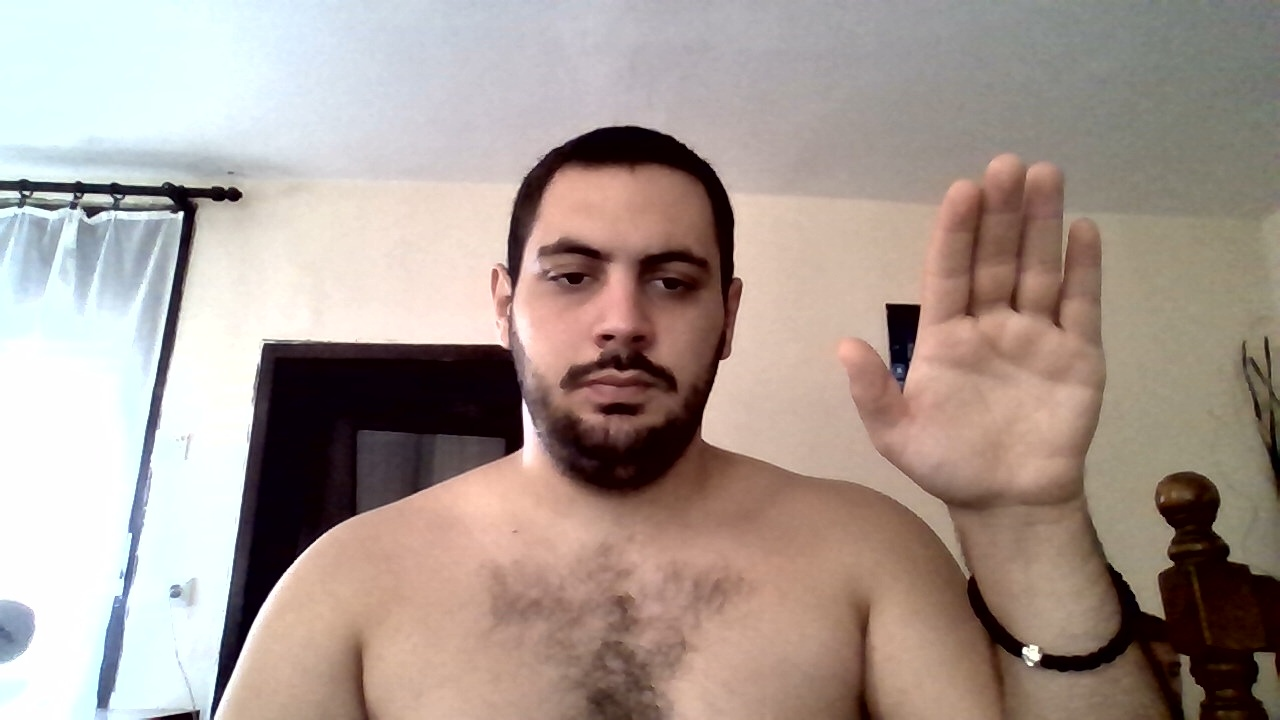palm: (840, 153, 1102, 503)
